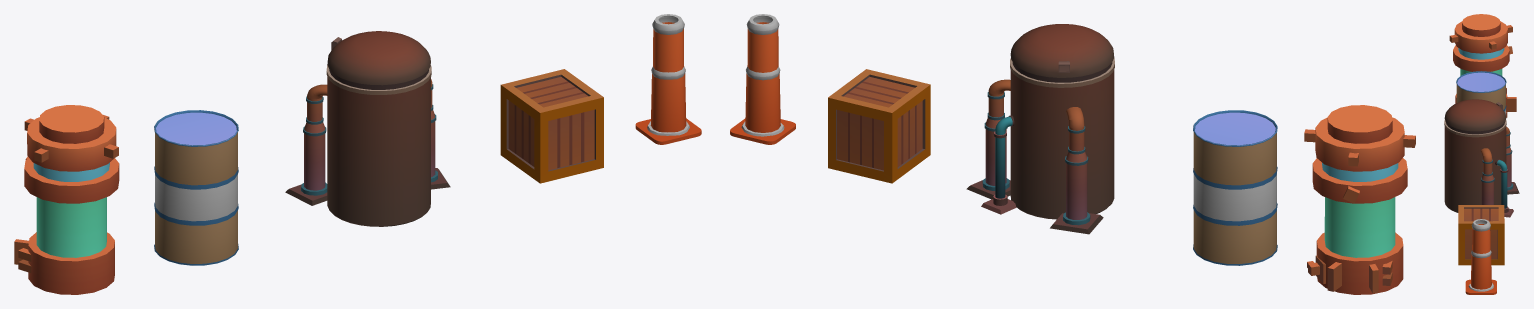
File: End_t1_a3.fbx
3 renders of one model, left to right at view 1: azimuth 30°, elevation 25°; view 2: azimuth 150°, elevation 25°; view 3: azimuth 270°, elevation 25°, orthographic. The views are drawn at different scales.
Parts seen in each view (by area): view 1: End_t1_a3_v4, End_t1_a3_v5, End_t1_a3_v1, End_t1_a3_v3, End_t1_a3_v2; view 2: End_t1_a3_v4, End_t1_a3_v5, End_t1_a3_v1, End_t1_a3_v3, End_t1_a3_v2; view 3: End_t1_a3_v4, End_t1_a3_v5, End_t1_a3_v3, End_t1_a3_v2, End_t1_a3_v1.
Part boxes in pixels (<box>): End_t1_a3_v4: <box>285,31,450,226</box>; End_t1_a3_v5: <box>14,105,119,294</box>; End_t1_a3_v1: <box>154,110,238,265</box>; End_t1_a3_v3: <box>500,69,603,183</box>; End_t1_a3_v2: <box>635,14,701,144</box>; End_t1_a3_v4: <box>966,24,1114,234</box>; End_t1_a3_v5: <box>1304,105,1415,294</box>; End_t1_a3_v1: <box>1193,110,1277,265</box>; End_t1_a3_v3: <box>828,69,930,183</box>; End_t1_a3_v2: <box>730,14,795,144</box>; End_t1_a3_v4: <box>1444,99,1519,217</box>; End_t1_a3_v5: <box>1449,14,1516,117</box>; End_t1_a3_v3: <box>1458,205,1504,265</box>; End_t1_a3_v2: <box>1465,219,1496,294</box>; End_t1_a3_v1: <box>1456,71,1506,114</box>.
Bounding box in the file's own units: 20.51 × 4.93 × 3.4.
